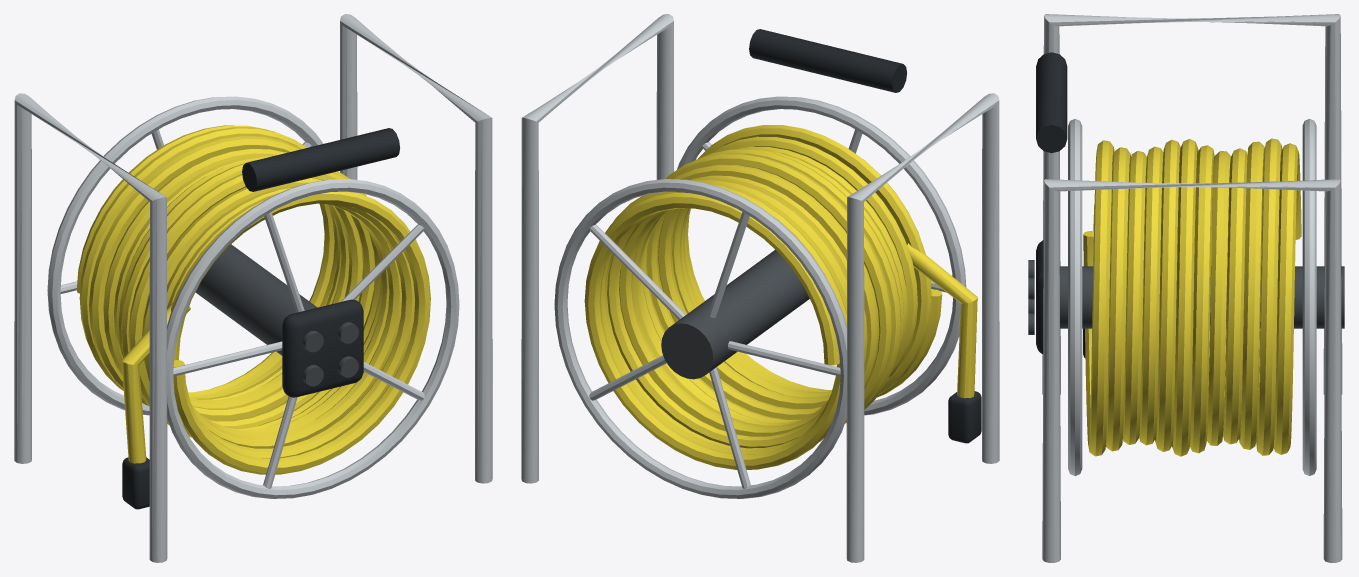
File: cable_reel.glb
3 renders of one model, left to right at view 1: azimuth 30°, elevation 25°; view 2: azimuth 150°, elevation 25°; view 3: azimuth 270°, elevation 25°, orthographic. The views are drawn at different scales.
Parts seen in each view (by area): view 1: cable_reel; view 2: cable_reel; view 3: cable_reel.
Boxes of the visible parts, x1,y1,x2,y2 form: cable_reel: [14, 14, 492, 562]; cable_reel: [521, 14, 999, 562]; cable_reel: [1028, 14, 1344, 562].
Size of the model in its own units: 0.4458 by 0.4629 by 0.3421.
